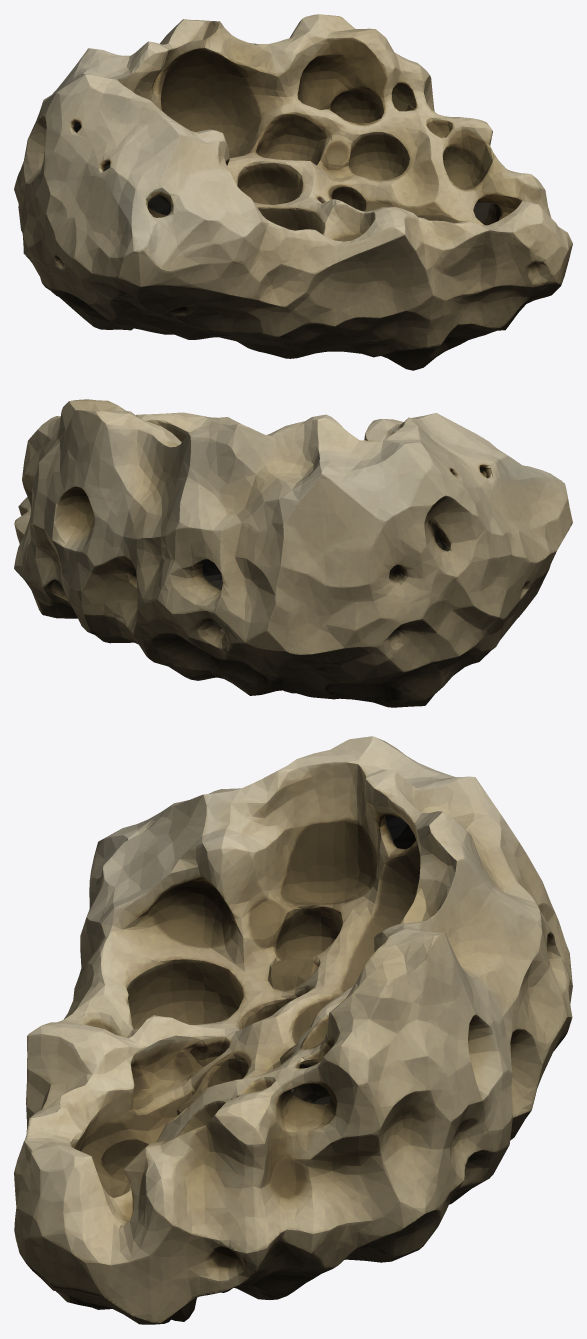
The picture shows the model from 3 angles, top to bottom: view 1: azimuth 30°, elevation 25°; view 2: azimuth 150°, elevation 25°; view 3: azimuth 270°, elevation 25°; orthographic projection. The views are drawn at different scales.
Visible parts, largest first — view 1: world; view 2: world; view 3: world.
Part boxes in pixels (box(x1,y1,x2,y2)): world: box(14, 14, 572, 370); world: box(14, 399, 572, 707); world: box(14, 736, 572, 1324).
Bounding box in the file's own units: 0.9994 × 0.6169 × 0.7558.
1 material, 1 textured.
